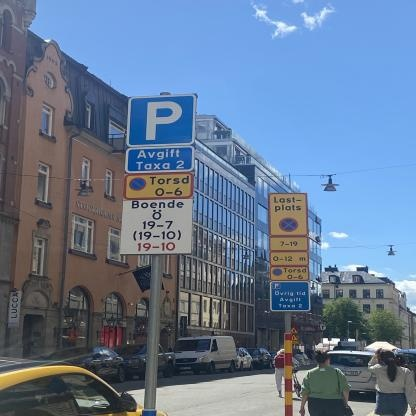P-skylt: (128, 93, 196, 146)
lastplats: (269, 192, 309, 235)
